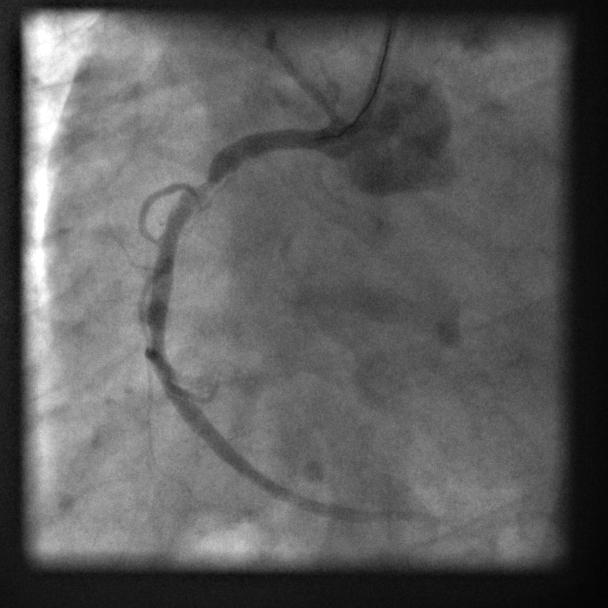Stenosis: (182, 162, 223, 204)
